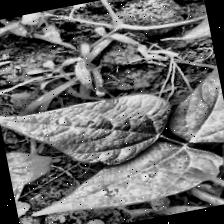ALS: (0, 78, 178, 177), (26, 140, 214, 224), (160, 57, 224, 151)
